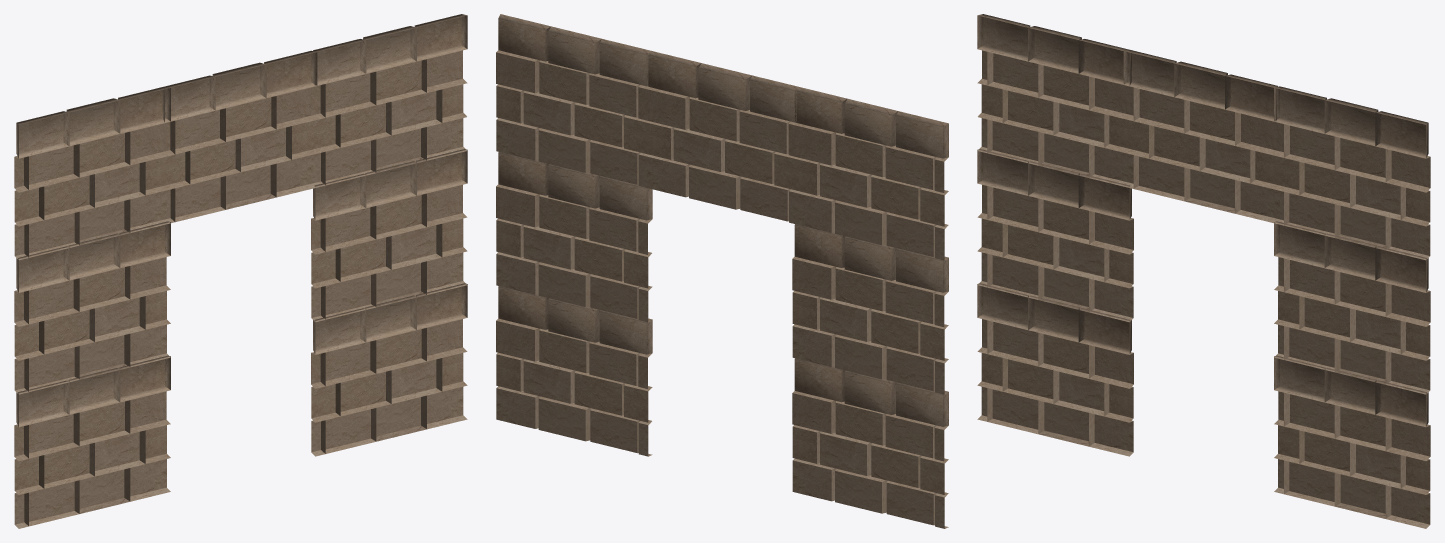
The model's file is WallDoor.fbx.
3 views of the same model, side by side, from view 1: azimuth 30°, elevation 25°; view 2: azimuth 150°, elevation 25°; view 3: azimuth 330°, elevation 25° (orthographic).
Parts seen in each view (by area): view 1: M_Wall23_MedievalDiningRoom_FinalScene2:blinn6_0; view 2: M_Wall23_MedievalDiningRoom_FinalScene2:blinn6_0; view 3: M_Wall23_MedievalDiningRoom_FinalScene2:blinn6_0.
Boxes of the visible parts, left/top/right/bottom form: M_Wall23_MedievalDiningRoom_FinalScene2:blinn6_0: left=14, top=14, right=467, bottom=528; M_Wall23_MedievalDiningRoom_FinalScene2:blinn6_0: left=496, top=14, right=948, bottom=528; M_Wall23_MedievalDiningRoom_FinalScene2:blinn6_0: left=977, top=14, right=1430, bottom=528.
Bounding box in the file's own units: 107 × 92.47 × 2.01.
Materials: 1 (1 with a texture image).
